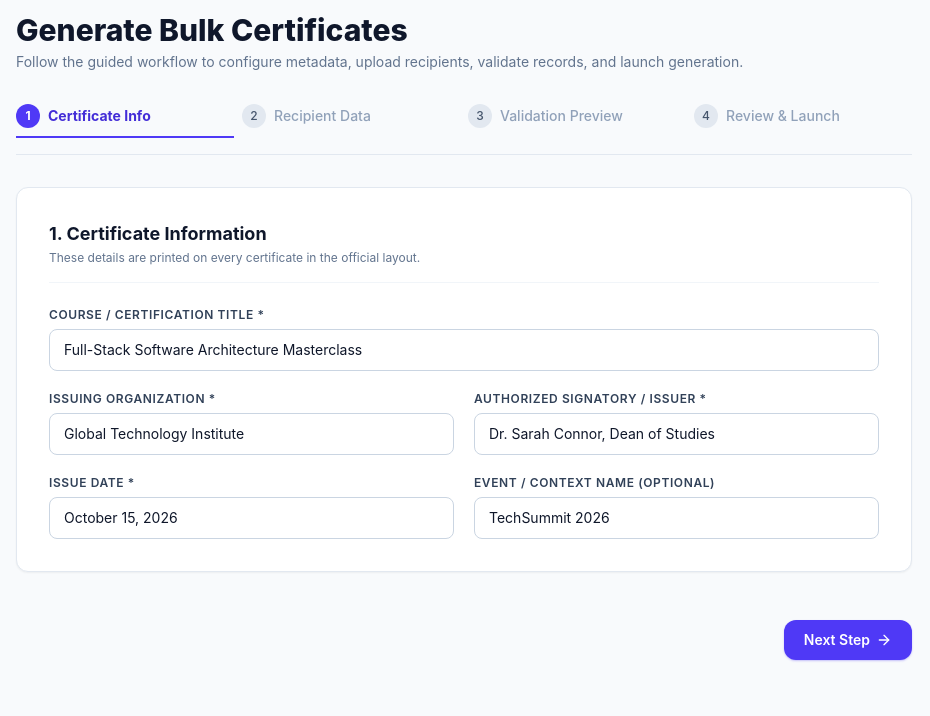
Test: GenerateCertificates Form Flow › navigates to step 2 upon clicking Next Step
Click the button "Next Step" at {"x": 848, "y": 640}, box [784,620,912,660]
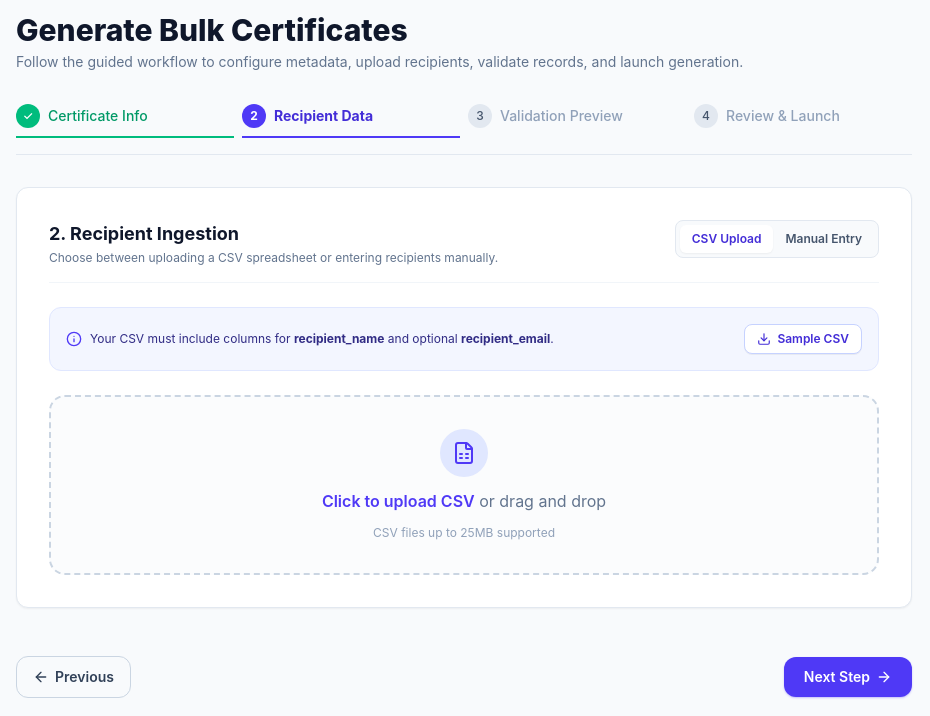
Expected: the heading "2. Recipient Ingestion" is shown, [49,223,239,244]
